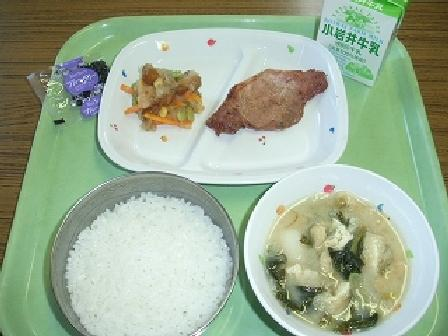Meat: (203, 53, 332, 140)
Milk: (310, 0, 424, 81)
Rice: (54, 176, 240, 335)
Soups: (248, 171, 432, 332)
vegetable based cooked food: (121, 58, 208, 138)
